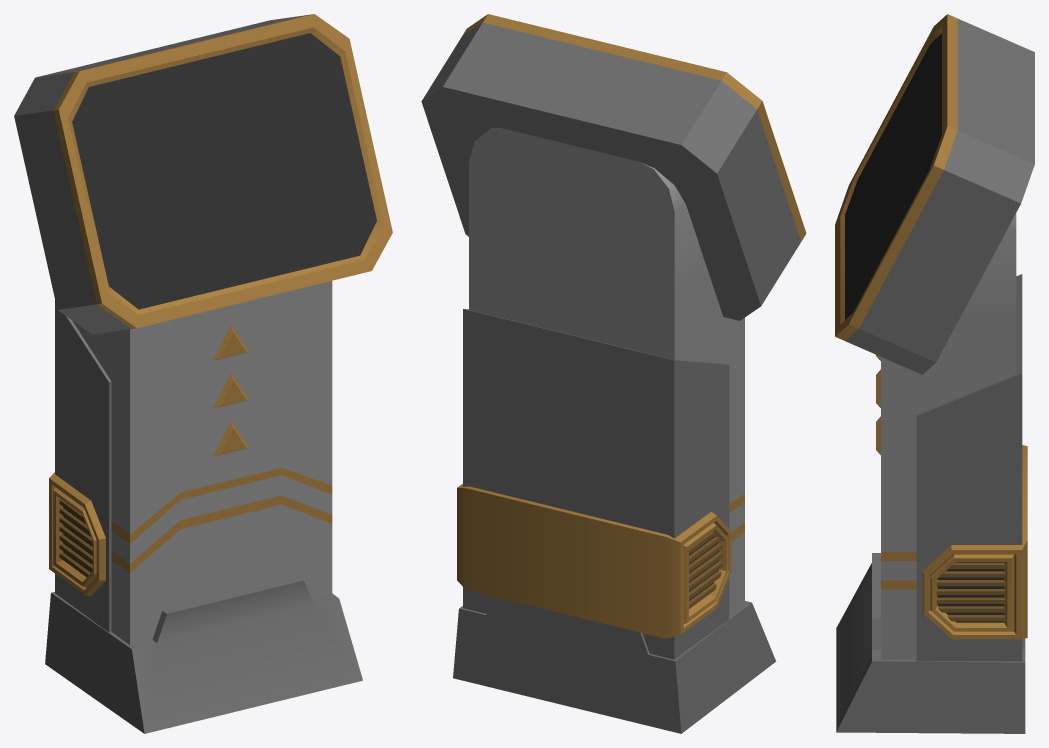
Rendered from computersmall.glb.
3 views of the same model, side by side, from view 1: azimuth 30°, elevation 25°; view 2: azimuth 150°, elevation 25°; view 3: azimuth 270°, elevation 25° (orthographic). The views are drawn at different scales.
Parts seen in each view (by area): view 1: Props_ComputerSmall; view 2: Props_ComputerSmall; view 3: Props_ComputerSmall.
Part boxes in pixels (x1=…): Props_ComputerSmall: x1=14, y1=14, x2=392, y2=733; Props_ComputerSmall: x1=421, y1=14, x2=806, y2=733; Props_ComputerSmall: x1=835, y1=14, x2=1034, y2=733.
Size of the model in its own units: 0.7512 by 1.54 by 0.4564.
